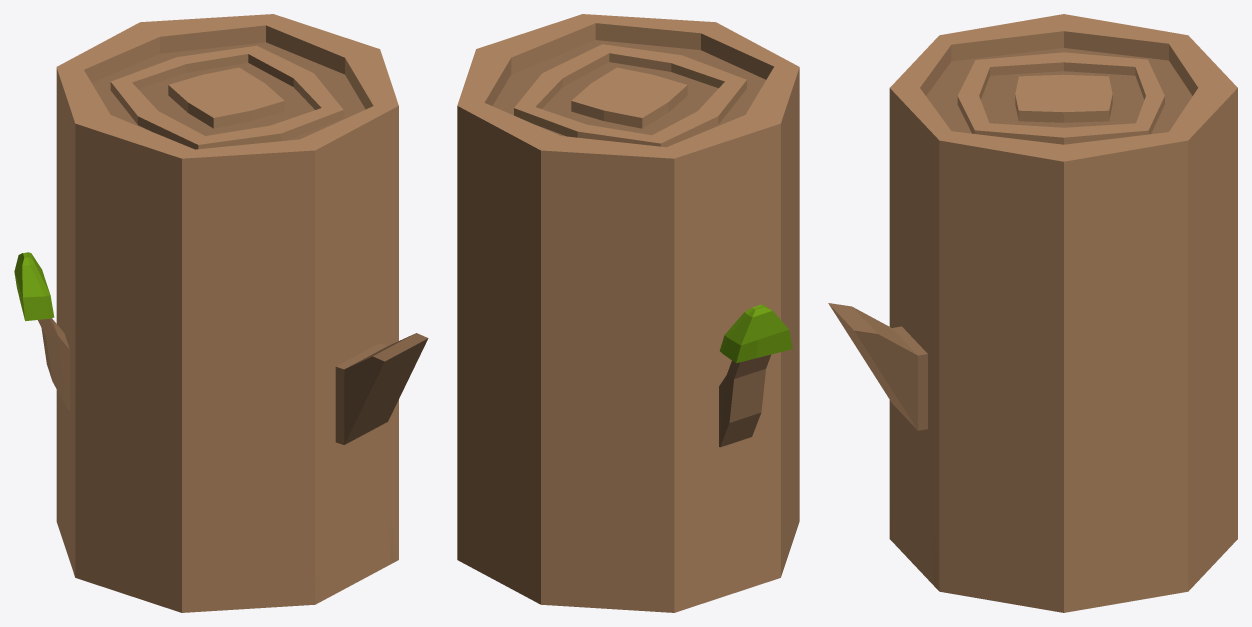
The model's file is woodLog.fbx.
3 renders of one model, left to right at view 1: azimuth 30°, elevation 25°; view 2: azimuth 150°, elevation 25°; view 3: azimuth 270°, elevation 25°, orthographic.
Parts seen in each view (by area): view 1: Cube; view 2: Cube; view 3: Cube.
Boxes of the visible parts, x1,y1,x2,y2 form: Cube: (14,14,428,612); Cube: (457,14,799,612); Cube: (828,14,1237,612).
Bounding box in the file's own units: 155 × 200 × 165.
